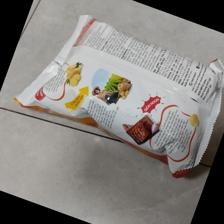Lays: (12, 14, 224, 177)
